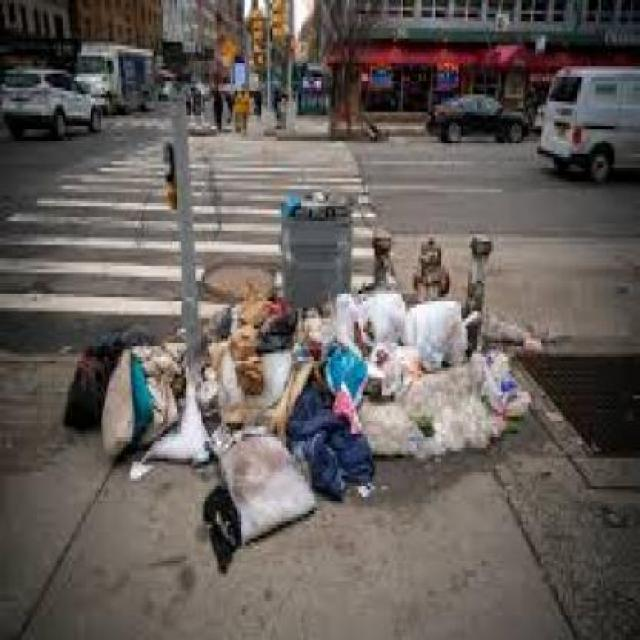garbage: (74, 288, 516, 546)
